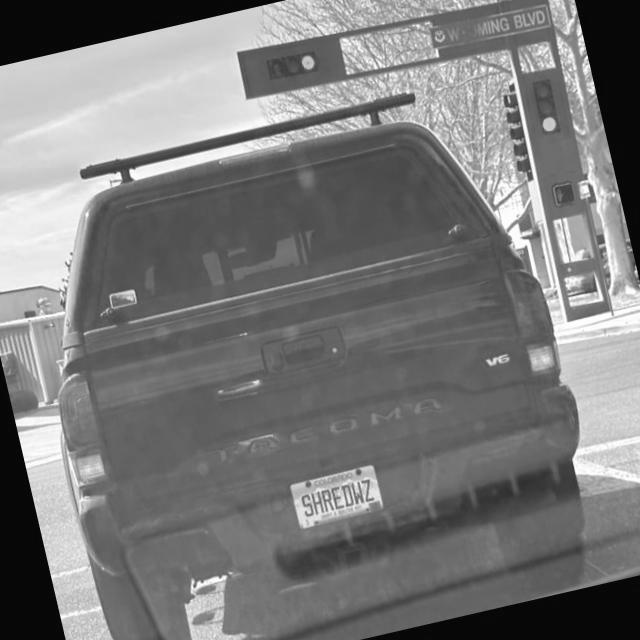LicensePlate: (287, 463, 385, 532)
